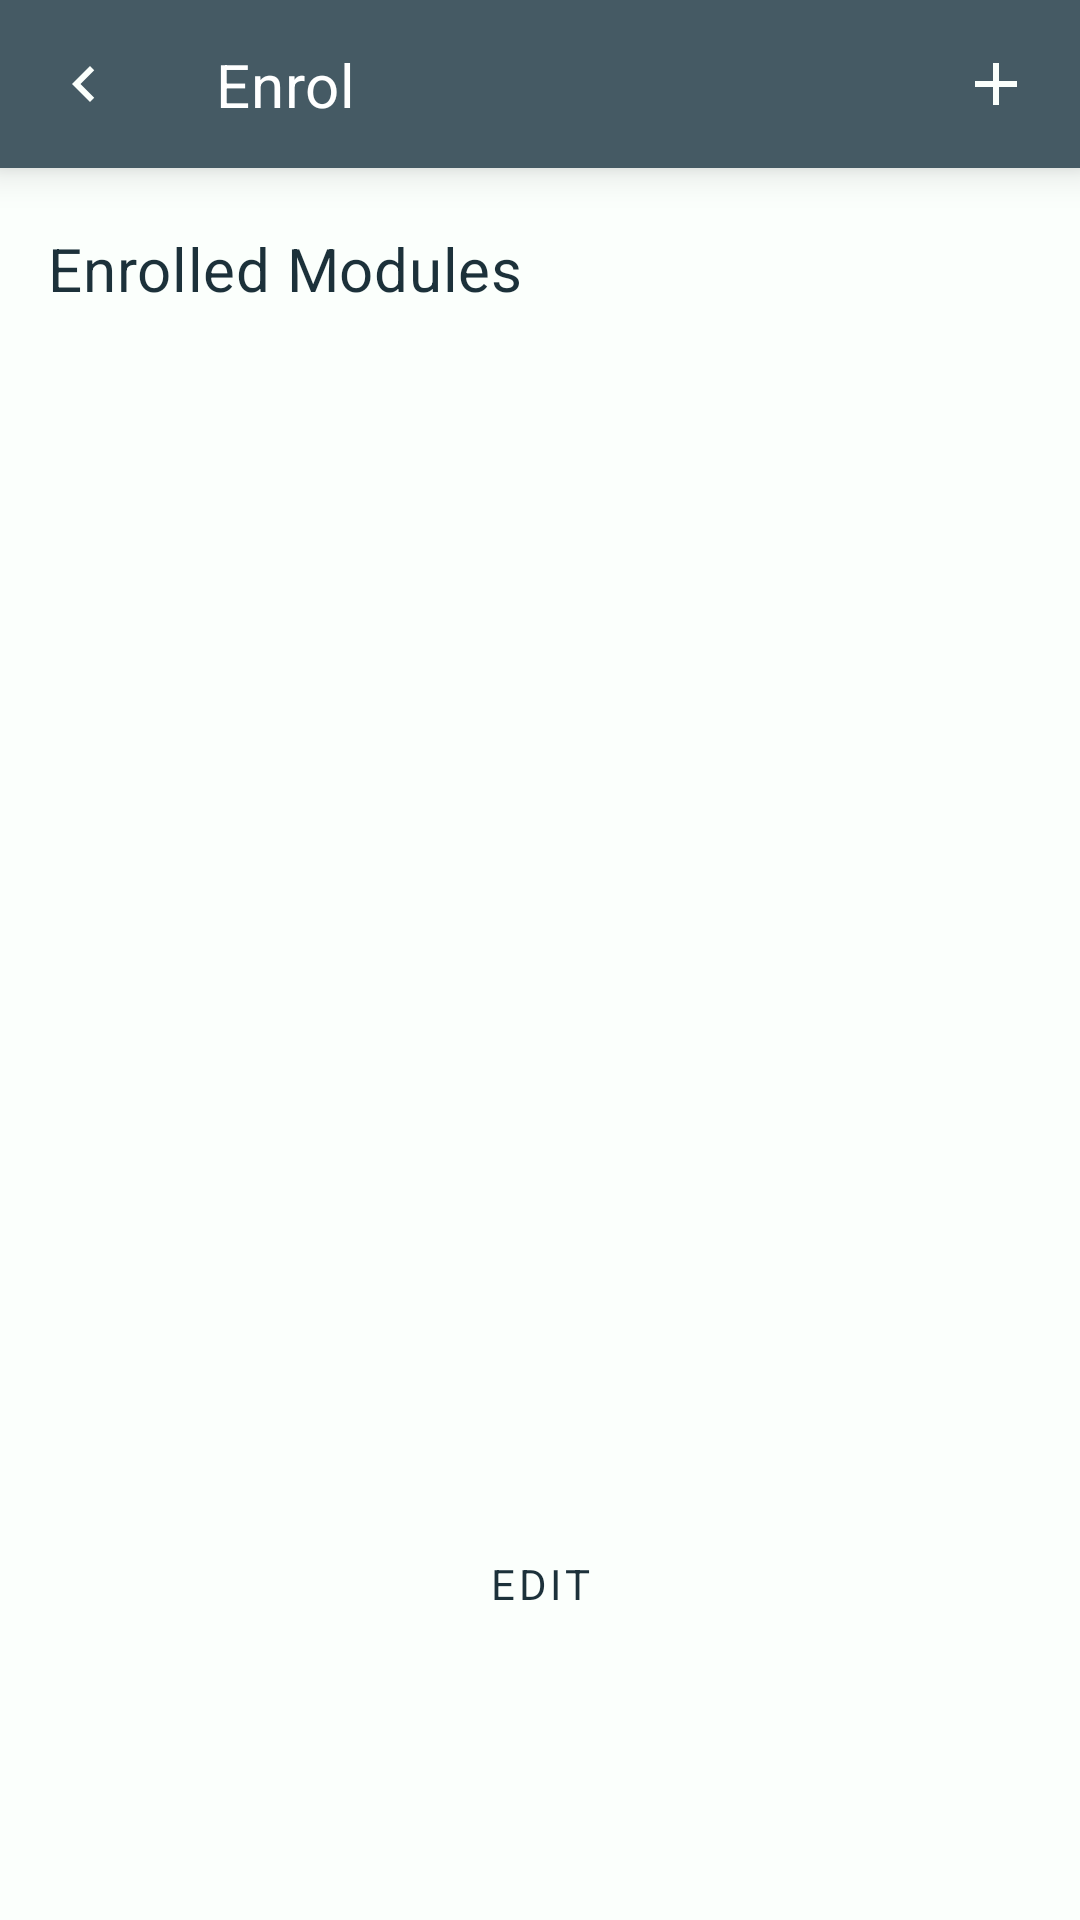

Icons on this 1080w x 1920h Android screen, each with the point to tap as (x,y):
add: (996,84)
